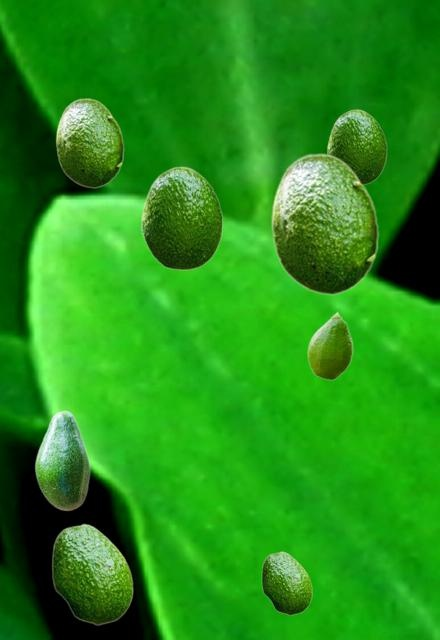avocado: (270, 153, 378, 294), (141, 166, 222, 269), (51, 523, 132, 624), (55, 98, 123, 187), (34, 410, 89, 510), (327, 109, 386, 184), (261, 551, 311, 614), (307, 311, 352, 379)
